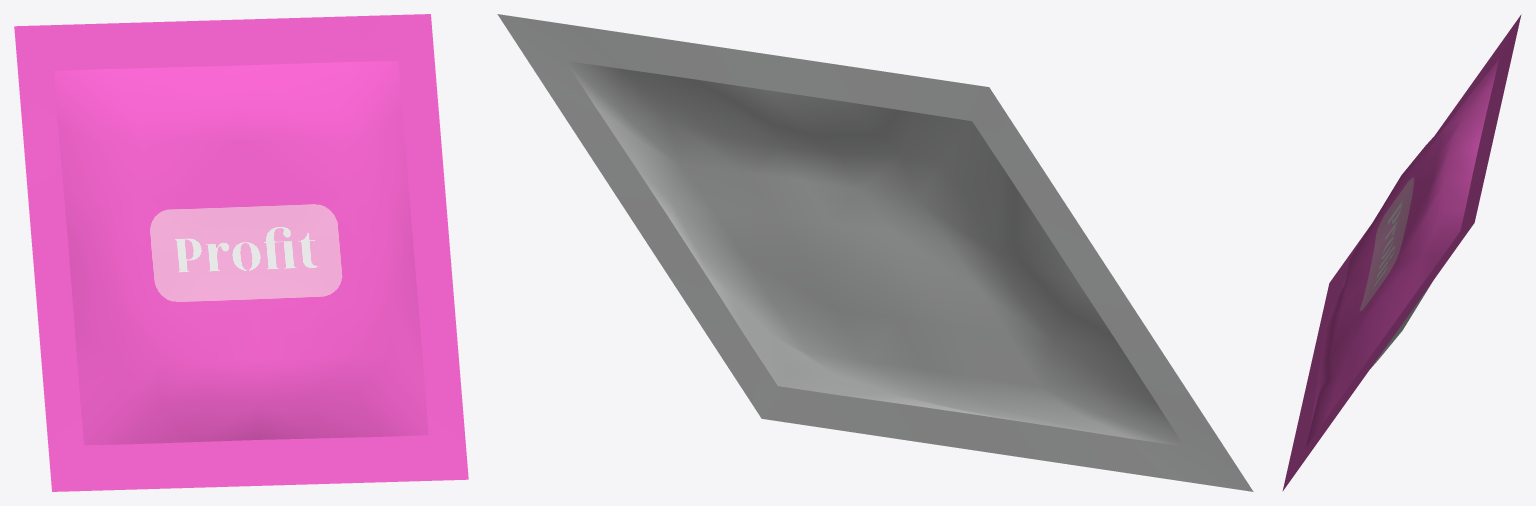
The model's file is pink.glb.
3 renders of one model, left to right at view 1: azimuth 30°, elevation 25°; view 2: azimuth 150°, elevation 25°; view 3: azimuth 270°, elevation 25°, orthographic. The views are drawn at different scales.
Visible parts, largest first — view 1: Condom Low Poly; view 2: Condom Low Poly; view 3: Condom Low Poly.
Boxes of the visible parts, bbox=[...] form: Condom Low Poly: bbox=[14, 14, 468, 491]; Condom Low Poly: bbox=[497, 14, 1253, 491]; Condom Low Poly: bbox=[1282, 14, 1521, 491].
Bounding box in the file's own units: 2.36 × 2.05 × 1.26.
Materials: 1 (1 with a texture image).
